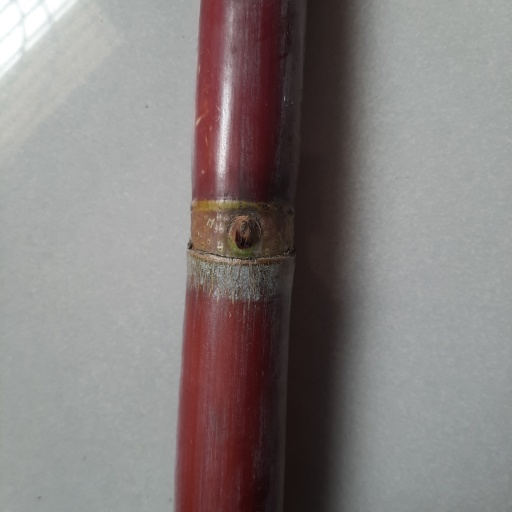Bud: (229, 218, 260, 251)
